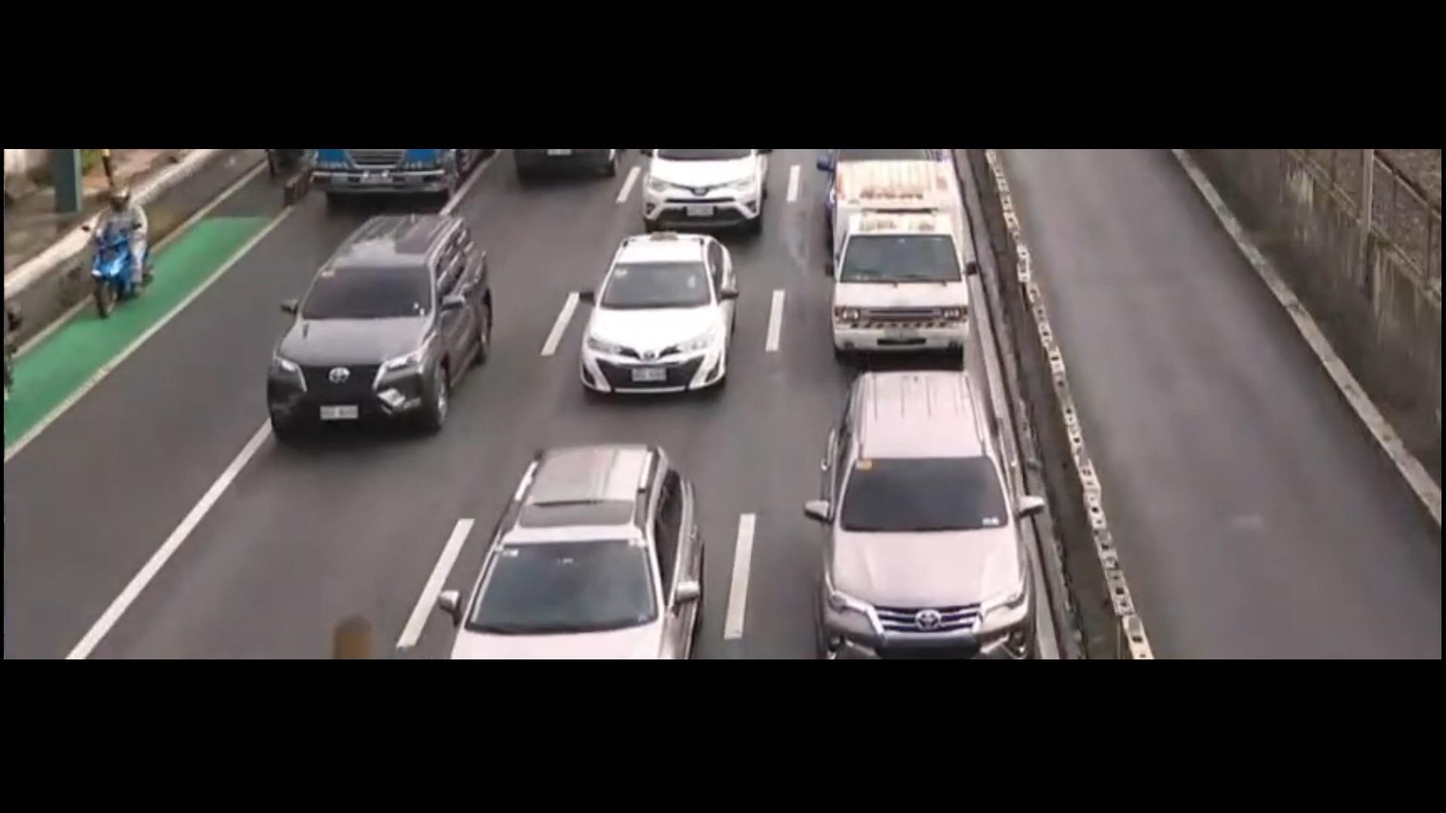Motorcycle: (79, 183, 183, 342)
SUV: (433, 407, 742, 663), (259, 189, 496, 477), (807, 362, 1032, 658)
Sedan: (554, 222, 763, 417)
Truck: (811, 149, 991, 374)
